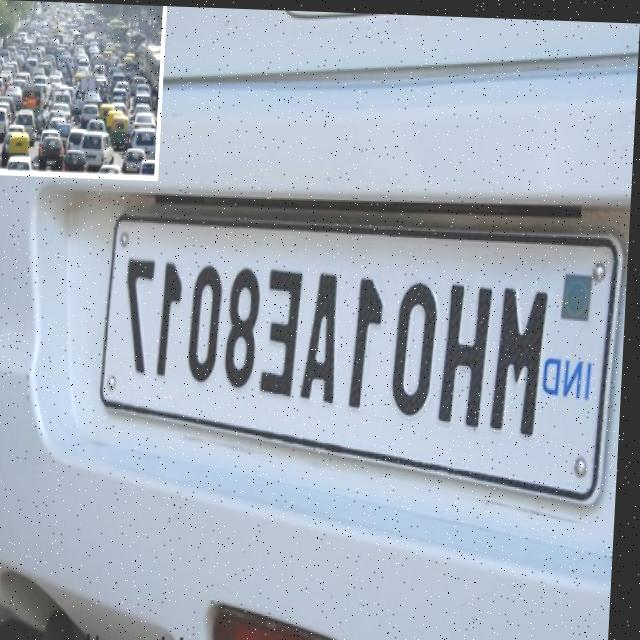plate: (99, 206, 629, 503)
